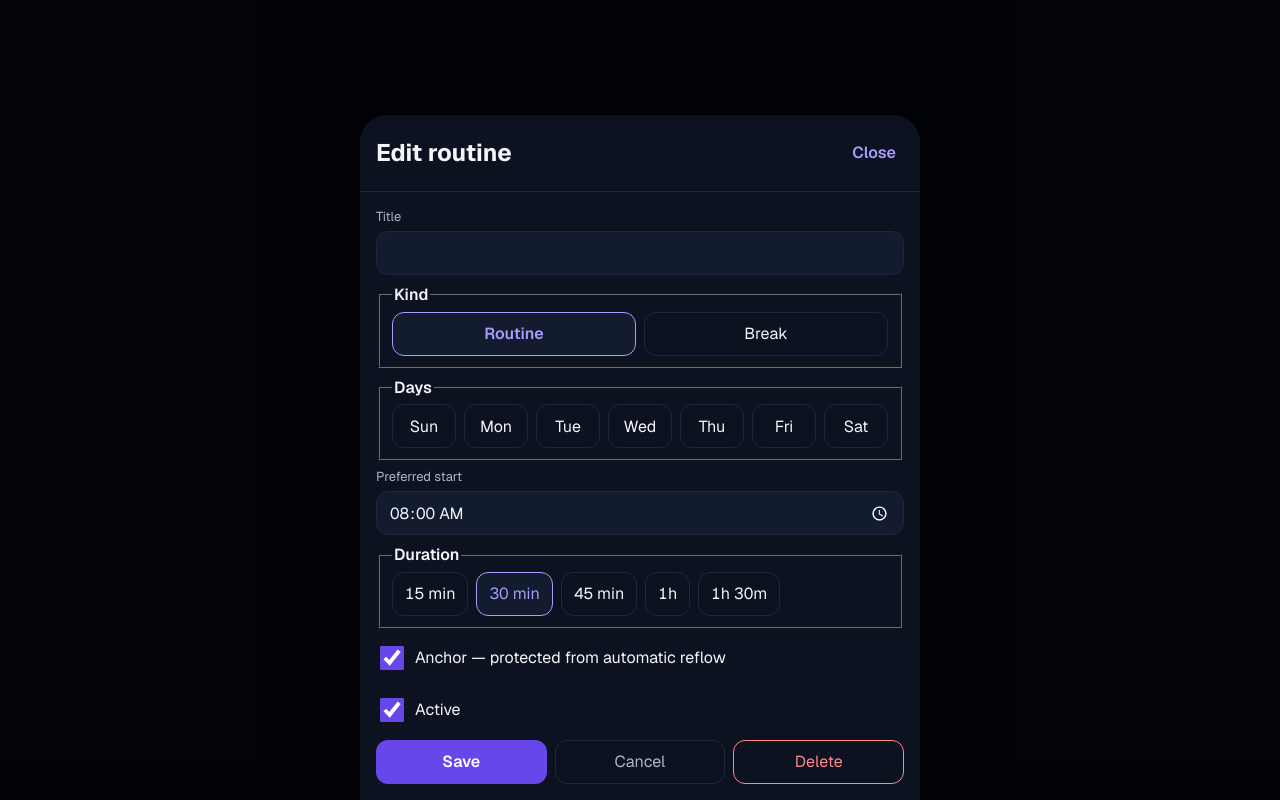
Test case: requires a title and at least one day
Click the button "Save": (461, 762) [376,740,547,784]
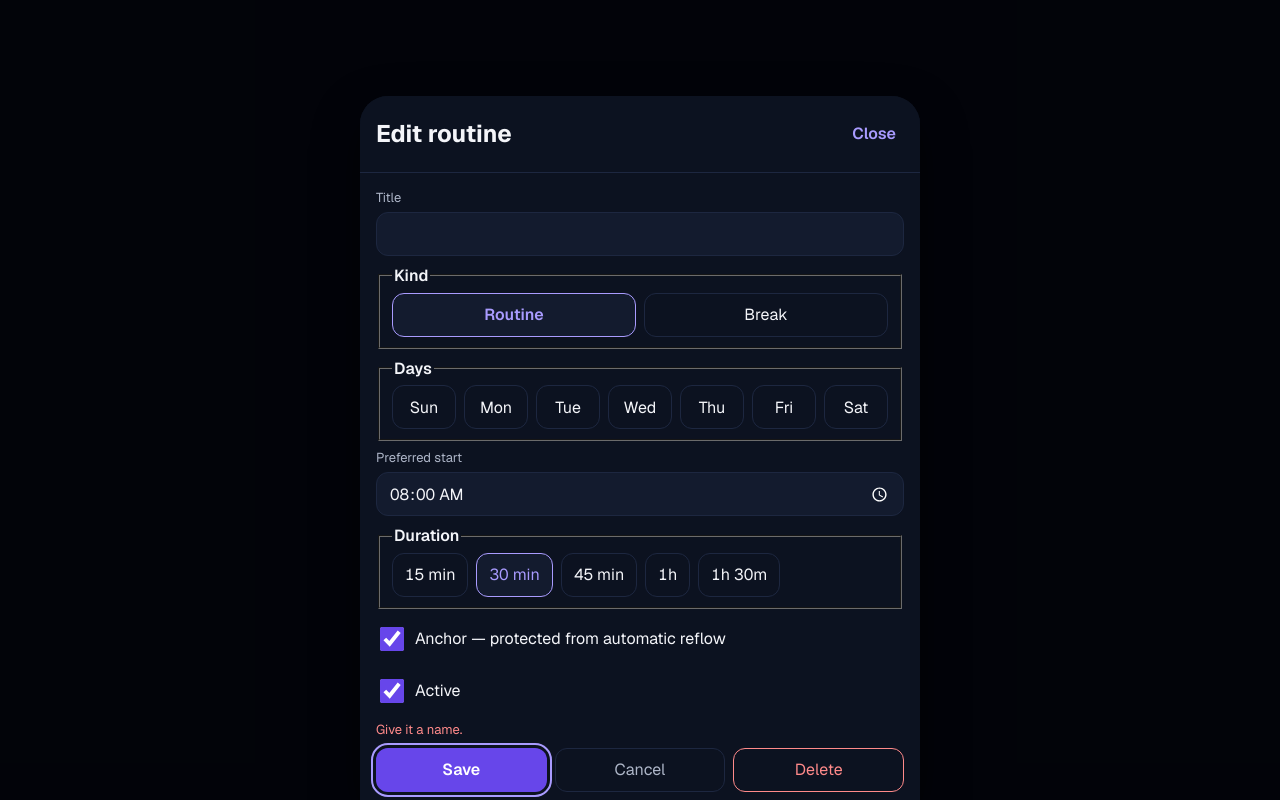
Result: the message reads "Give it a name." at [376,721,462,738]
In the field labelled "Title": (640, 234) [376,212,904,256], type "Walk"
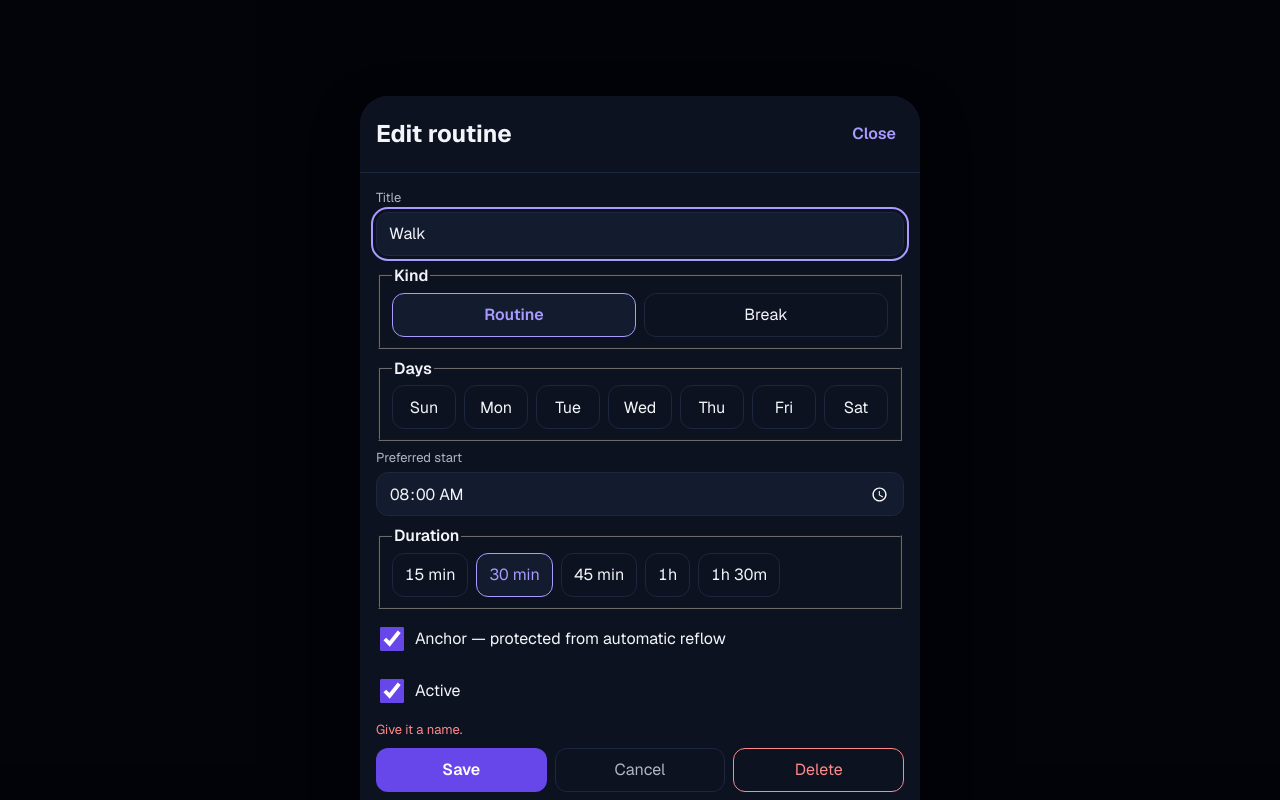
Click the button "Save": (461, 770) [376,748,547,792]
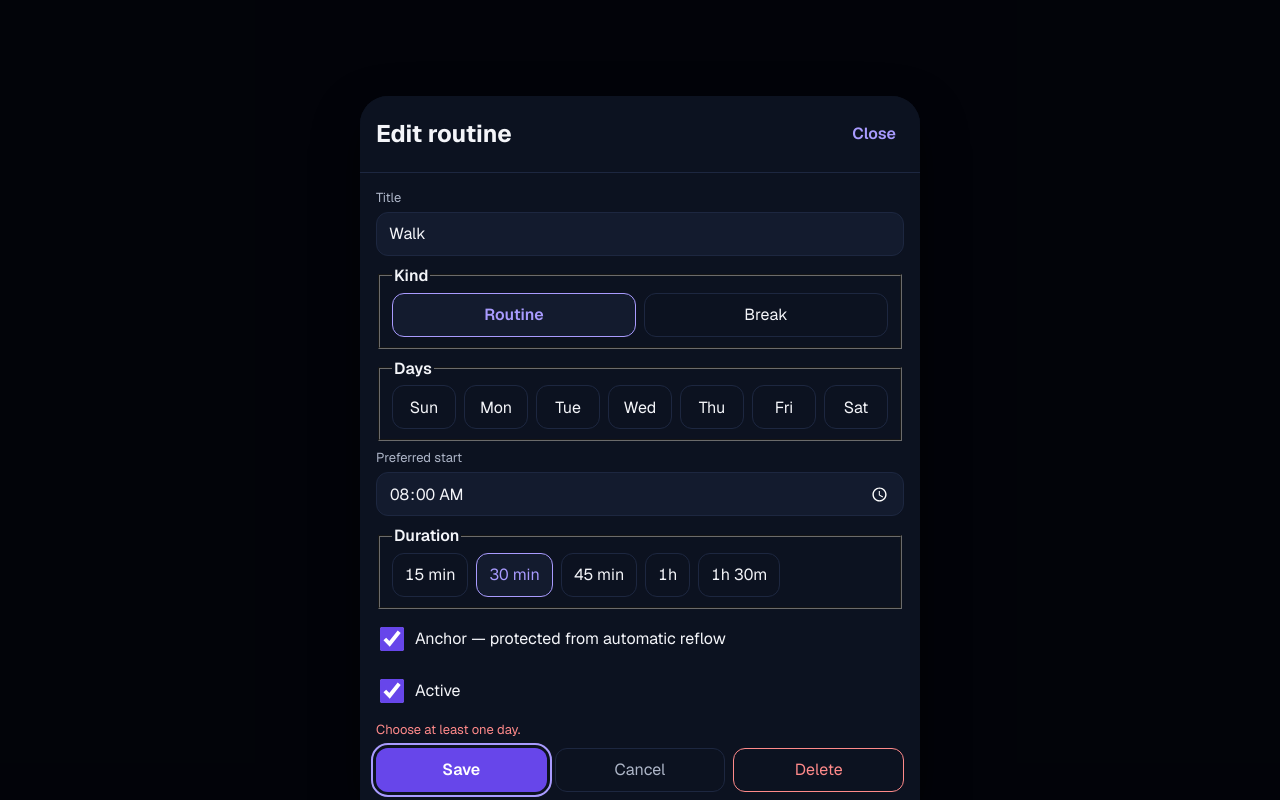
Result: the message reads "Choose at least one day." at [376,721,520,738]
